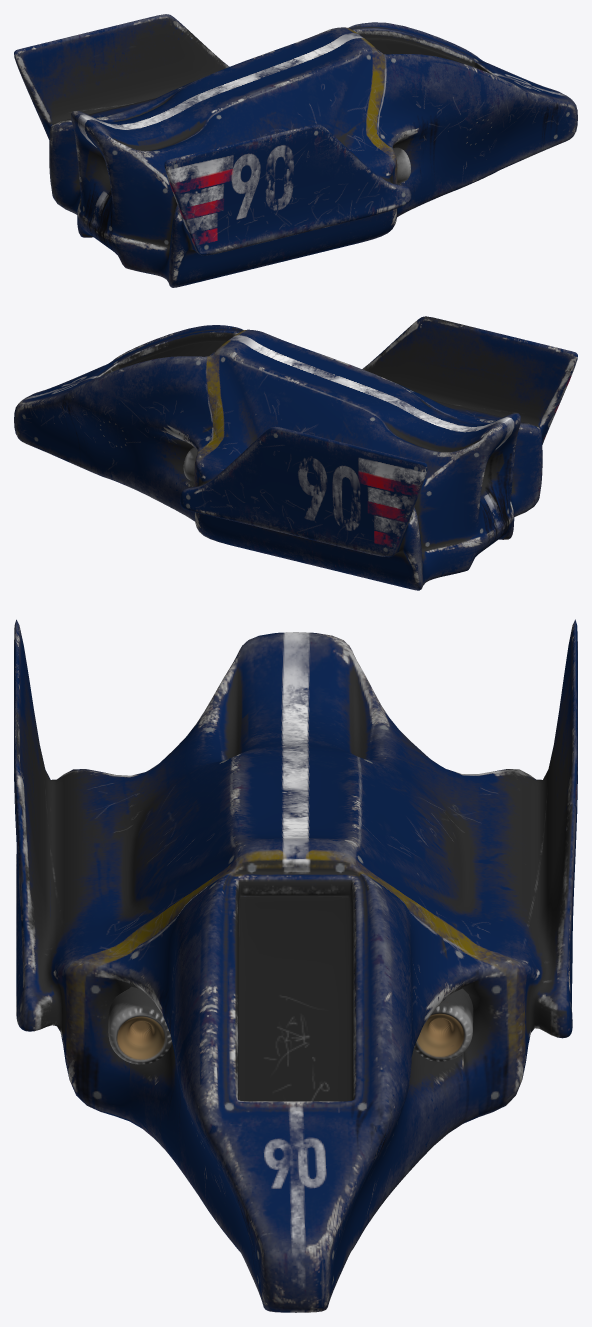
File: carroprincipal.obj
The picture shows the model from 3 angles, top to bottom: view 1: azimuth 30°, elevation 25°; view 2: azimuth 150°, elevation 25°; view 3: azimuth 270°, elevation 25°; orthographic projection. The views are drawn at different scales.
Visible parts, largest first — view 1: Cylinder_7.001_Material.001; view 2: Cylinder_7.001_Material.001; view 3: Cylinder_7.001_Material.001.
Boxes of the visible parts, left/top/right/bottom form: Cylinder_7.001_Material.001: left=14, top=14, right=577, bottom=287; Cylinder_7.001_Material.001: left=14, top=316, right=577, bottom=590; Cylinder_7.001_Material.001: left=14, top=619, right=577, bottom=1312.
Size of the model in its own units: 16.16 by 4.93 by 8.64.
